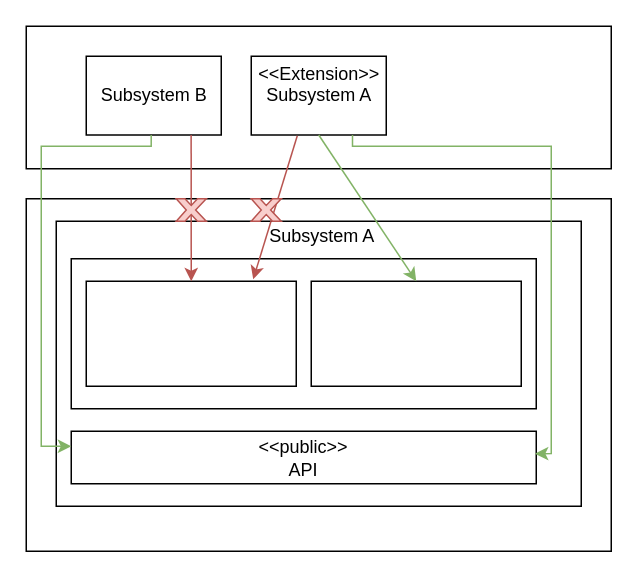
The diagram is 638 pixels wide and 578 high, and some of its shapes have lost their labels. The shapes that lost their labels are listed below. From the top down, each one's centre as x and y in pixels, then its label:
At [190,333]: "<<Private>> Impl".
At [415,333]: "<<Protected>> Impl".
